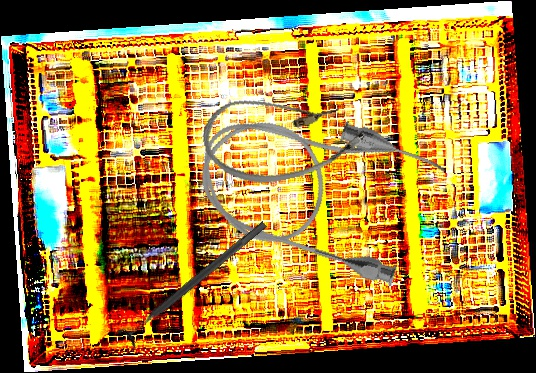Cannula: (182, 83, 451, 293), (196, 76, 371, 195)
Fixation Ring: (115, 212, 275, 353)
